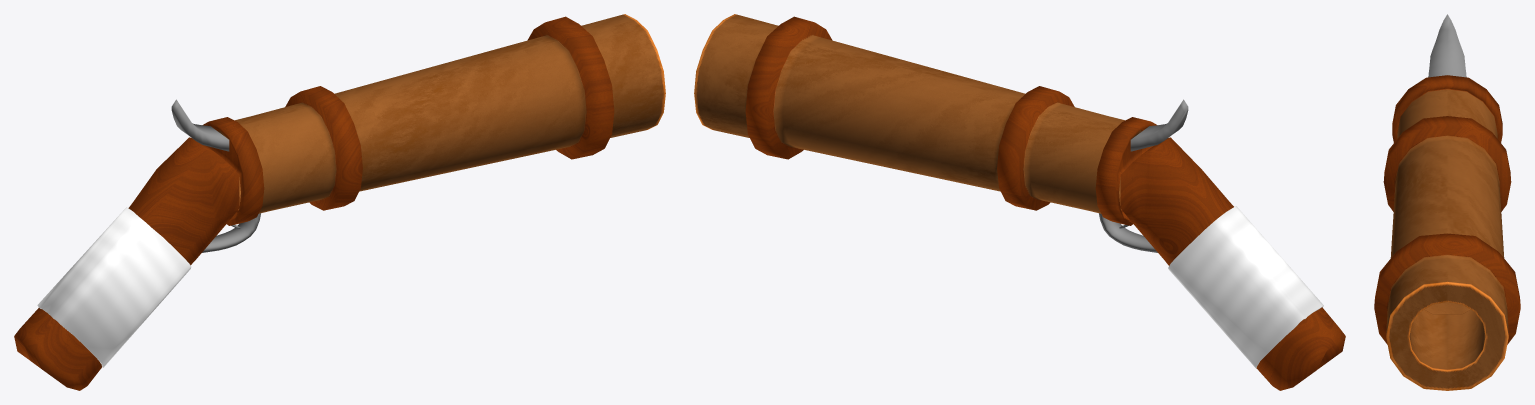
File: Gun.fbx
3 renders of one model, left to right at view 1: azimuth 30°, elevation 25°; view 2: azimuth 150°, elevation 25°; view 3: azimuth 270°, elevation 25°, orthographic. The views are drawn at different scales.
Visible parts, largest first — view 1: Barrel, Handle, Grip, Trigger; view 2: Barrel, Grip, Handle, Trigger; view 3: Barrel, Trigger.
Part boxes in pixels (x1,y1,x2,y2): Barrel: (202, 14, 665, 252); Handle: (14, 137, 239, 390); Grip: (37, 207, 191, 367); Trigger: (171, 99, 229, 151); Barrel: (694, 14, 1157, 252); Grip: (1168, 206, 1323, 368); Handle: (1120, 137, 1345, 390); Trigger: (1130, 99, 1188, 151); Barrel: (1374, 75, 1520, 390); Trigger: (1428, 14, 1466, 77).
Bounding box in the file's own units: 537 × 217 × 107.
1 material, 1 textured.
